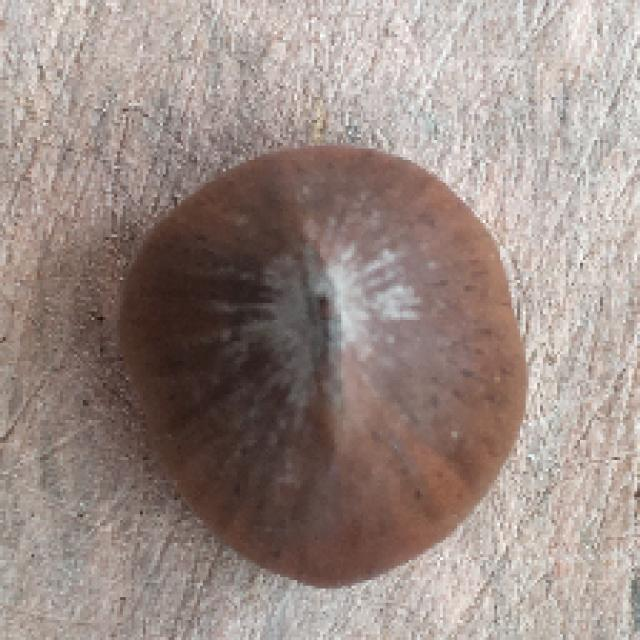qualityHazelnut: (112, 141, 519, 587)
